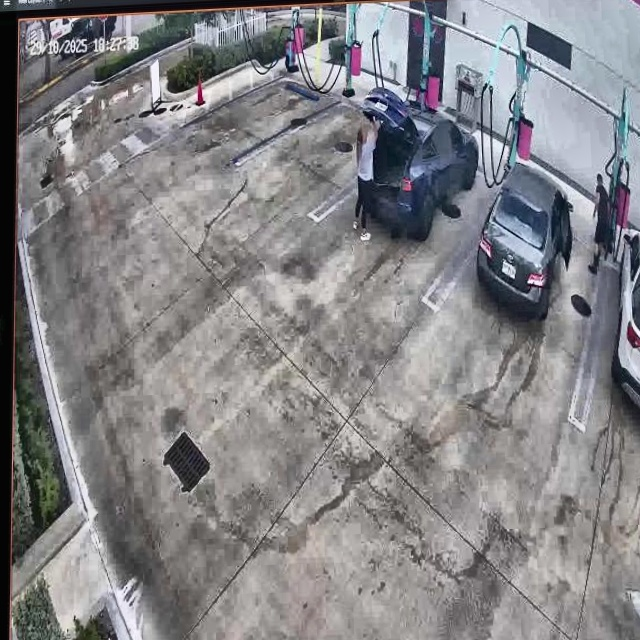Car: (363, 83, 481, 235), (475, 159, 578, 319)
